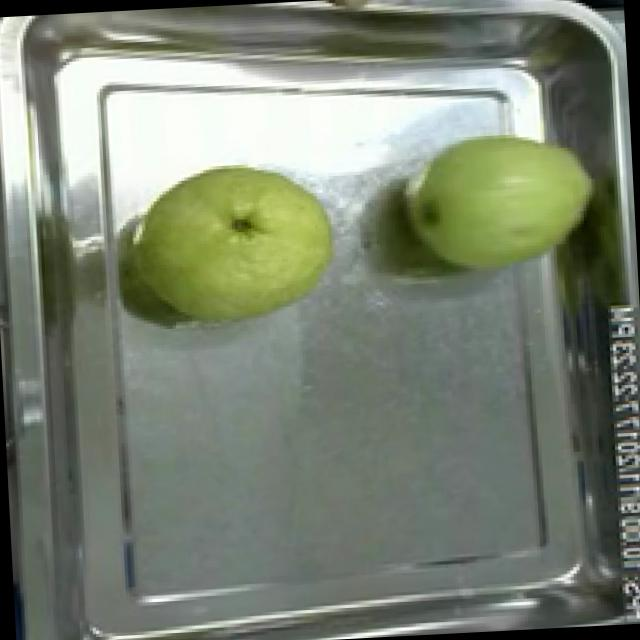Fruit: (129, 149, 349, 336), (387, 113, 609, 287)
